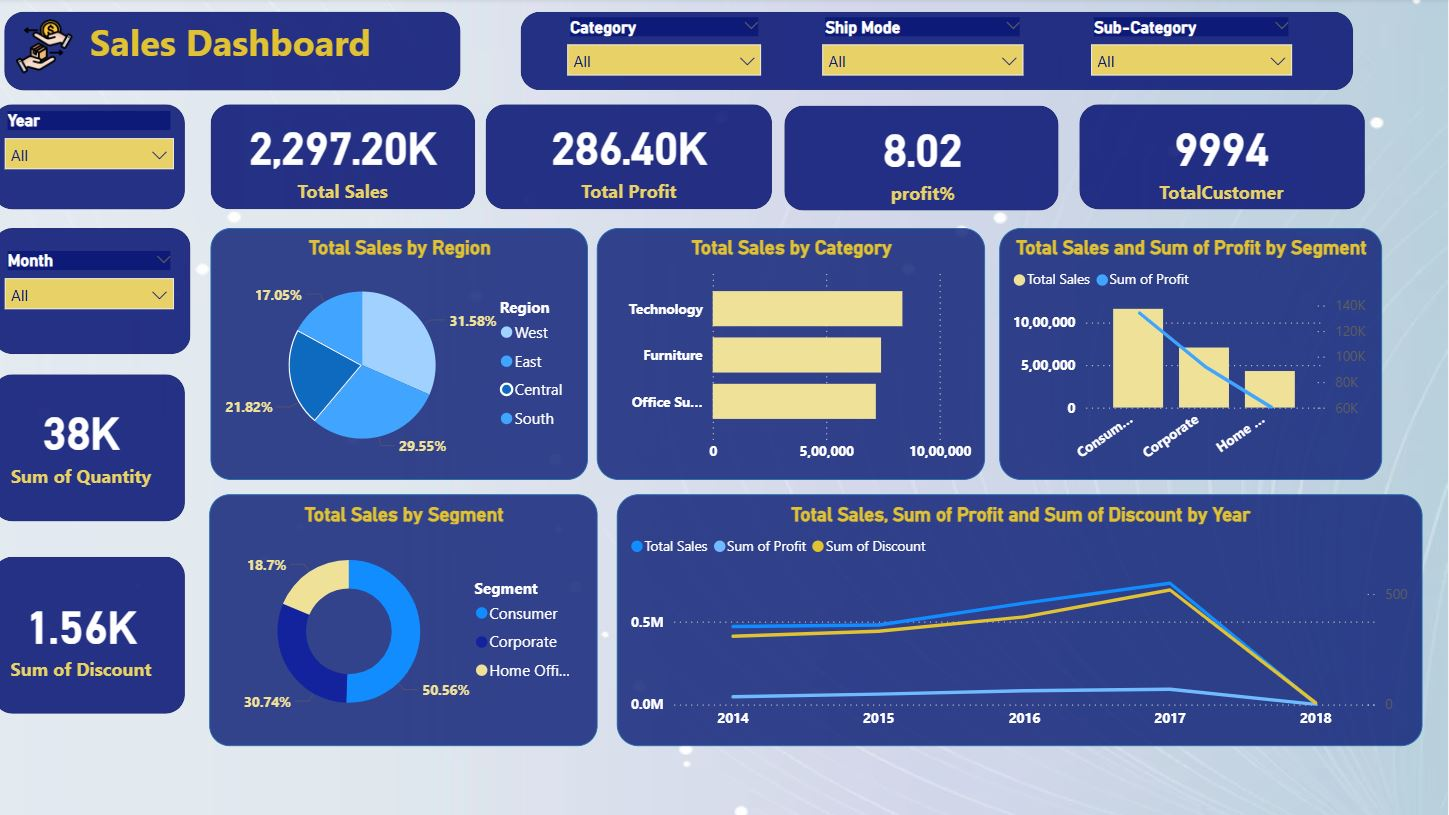

This screenshot's page, from the dashboard's own definition file:
{"tool":"powerbi","page":{"name":"Page 1","canvas":[1280,720],"ordinal":0},"visuals":[{"type":"shape","box":[9.6,12,433.5,69.6],"z":0},{"type":"image","box":[9.6,12,70.8,61.2],"z":1000},{"type":"textbox","box":[80.5,12,343.4,61.2],"z":2000},{"type":"shape","box":[463.7,12.3,732.5,69.1],"z":3000},{"type":"shape","box":[0,93.7,168.9,92.5],"z":4000},{"type":"shape","box":[190.9,93.7,232.9,92.5],"z":5000},{"type":"card","fields":{"Values":["orders.Total Sales"]},"box":[190.9,93.7,232.9,92.5],"z":6000},{"type":"shape","box":[433.5,93.7,252.2,92.5],"z":7000},{"type":"shape","box":[696.4,94.9,241.4,92.5],"z":8000},{"type":"card","fields":{"Values":["orders.Total Profit"]},"box":[443.1,93.7,232.9,92.5],"z":9000},{"type":"card","fields":{"Values":["orders.profit%"]},"box":[701.2,95.2,233.3,91.7],"z":10000},{"type":"slicer","fields":{"Values":["orders.Category"]},"box":[494.5,12.3,191.1,69.1],"z":11000},{"type":"slicer","fields":{"Values":["orders.Ship Mode"]},"box":[718.9,12.3,197.3,69.1],"z":12000},{"type":"slicer","fields":{"Values":["orders.Sub-Category"]},"box":[955.7,12.3,197.3,69.1],"z":13000},{"type":"slicer","fields":{"Values":["orders.Year"]},"box":[0,95,168.9,77.7],"z":14000},{"type":"shape","box":[0,202.2,173.9,111],"z":15000},{"type":"pieChart","fields":{"Y":["orders.Total Sales"],"Category":["orders.Region"]},"box":[191.1,202.2,331.7,222],"z":16001},{"type":"clusteredBarChart","fields":{"Category":["orders.Category"],"Y":["orders.Total Sales"]},"box":[531.5,202.2,341.6,222],"z":16002},{"type":"donutChart","fields":{"Category":["orders.Segment"],"Y":["orders.Total Sales"]},"box":[189.9,436.5,341.6,222],"z":16003},{"type":"lineChart","fields":{"Category":["orders.Ship Date.Variation.Date Hierarchy.Year","orders.Ship Date.Variation.Date Hierarchy.Quarter","orders.Ship Date.Variation.Date Hierarchy.Month","orders.Ship Date.Variation.Date Hierarchy.Day"],"Y2":["Sum(orders.Discount)"],"Y":["orders.Total Sales","Sum(orders.Profit)"]},"box":[548.7,436.5,709.1,222],"z":16004},{"type":"shape","box":[955.7,93.7,251.6,92.5],"z":16005},{"type":"card","fields":{"Values":["orders.TotalCustomer"]},"box":[964.3,95,233.1,92.5],"z":16006},{"type":"slicer","fields":{"Values":["orders.Month"]},"box":[0,218.3,168.9,78.9],"z":16007},{"type":"lineStackedColumnComboChart","fields":{"Y":["orders.Total Sales"],"Category":["orders.Segment"],"Y2":["Sum(orders.Profit)"]},"box":[885.4,202.2,336.6,222],"z":16008},{"type":"shape","box":[0,330.5,168.9,129.5],"z":16009},{"type":"shape","box":[0,492,168.9,138.1],"z":16010},{"type":"card","fields":{"Values":["Sum(orders.Quantity)"]},"box":[0,344,155.4,92.5],"z":16011},{"type":"card","fields":{"Values":["Sum(orders.Discount)"]},"box":[0,514.2,155.4,92.5],"z":16012}]}

Visuals, with their boxes in screenshot pixels (x1, y1, x2, y2), scaled from the page's 1280x720 canvas onto the 1449x815 screenshot:
shape: crop(11, 14, 502, 92)
image: crop(11, 14, 91, 83)
textbox: crop(91, 14, 480, 83)
shape: crop(525, 14, 1354, 92)
shape: crop(0, 106, 191, 211)
shape: crop(216, 106, 480, 211)
card - orders.Total Sales: crop(216, 106, 480, 211)
shape: crop(491, 106, 776, 211)
shape: crop(788, 107, 1062, 212)
card - orders.Total Profit: crop(502, 106, 765, 211)
card - orders.profit%: crop(794, 108, 1058, 212)
slicer - orders.Category: crop(560, 14, 776, 92)
slicer - orders.Ship Mode: crop(814, 14, 1037, 92)
slicer - orders.Sub-Category: crop(1082, 14, 1305, 92)
slicer - orders.Year: crop(0, 108, 191, 195)
shape: crop(0, 229, 197, 355)
pieChart - orders.Total Sales x orders.Region: crop(216, 229, 592, 480)
clusteredBarChart - orders.Category x orders.Total Sales: crop(602, 229, 988, 480)
donutChart - orders.Segment x orders.Total Sales: crop(215, 494, 602, 745)
lineChart - orders.Ship Date.Variation.Date Hierarchy.Year x orders.Ship Date.Variation.Date Hierarchy.Quarter: crop(621, 494, 1424, 745)
shape: crop(1082, 106, 1367, 211)
card - orders.TotalCustomer: crop(1092, 108, 1355, 212)
slicer - orders.Month: crop(0, 247, 191, 336)
lineStackedColumnComboChart - orders.Total Sales x orders.Segment: crop(1002, 229, 1383, 480)
shape: crop(0, 374, 191, 521)
shape: crop(0, 557, 191, 713)
card - Sum(orders.Quantity): crop(0, 389, 176, 494)
card - Sum(orders.Discount): crop(0, 582, 176, 687)
